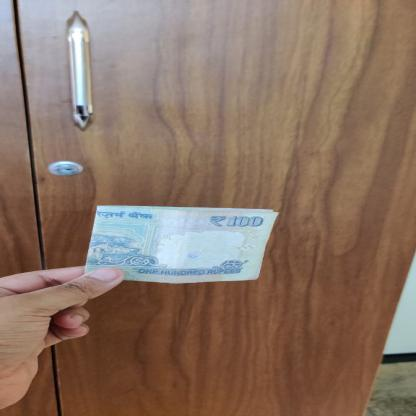Old100Back: (85, 205, 280, 284)
